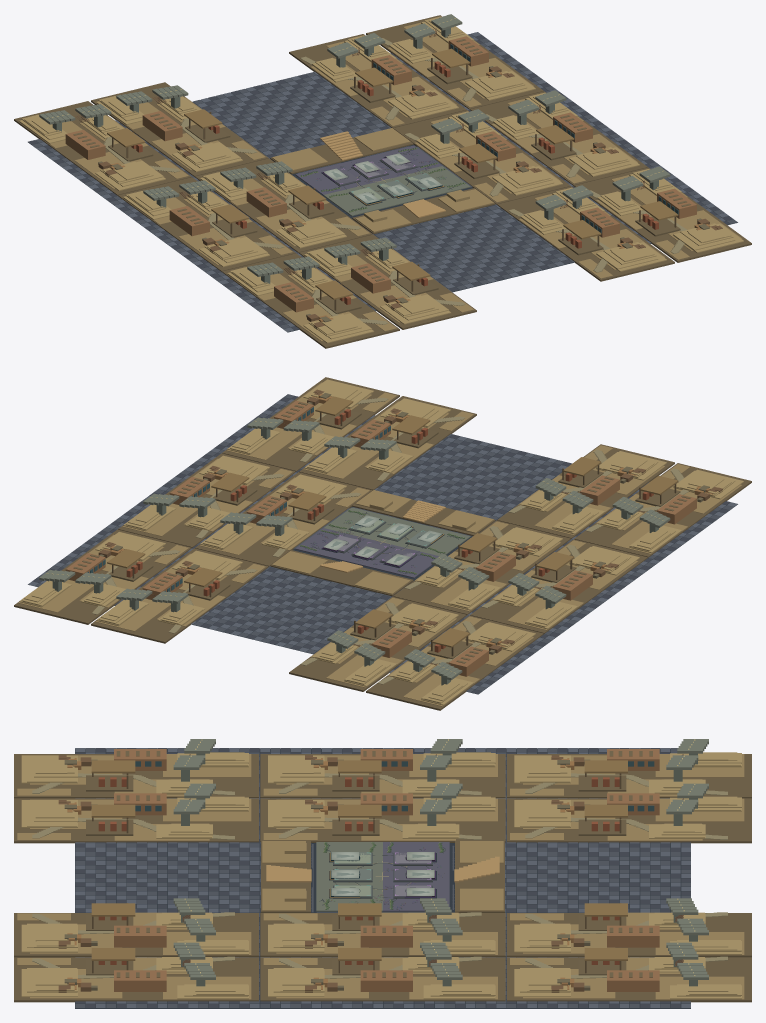
File: wasteland.glb
The picture shows the model from 3 angles, top to bottom: view 1: azimuth 30°, elevation 25°; view 2: azimuth 150°, elevation 25°; view 3: azimuth 270°, elevation 25°; orthographic projection. The views are drawn at different scales.
Visible parts, largest first — view 1: 24_Continuous_Outer_Floor_rock, 24_Continuous_Outer_Floor_rock3, 24_Continuous_Outer_Floor_rock2, 24_Outer_Floor_Mortar, Decorated_Halves_With_Six_Grounded_Stone_Bases, Approach_Flanking_Terraces, Landscape_Sand_Dunes__West_1_-1, Landscape_Sand_Dunes__West_1_0, Landscape_Sand_Dunes__West_1_1, Landscape_Sand_Dunes__West_0_1, Landscape_Sand_Dunes, Landscape_Sand_Dunes__West_0_-1 (+56 smaller); view 2: 24_Continuous_Outer_Floor_rock, 24_Continuous_Outer_Floor_rock2, 24_Continuous_Outer_Floor_rock3, 24_Outer_Floor_Mortar, Decorated_Halves_With_Six_Grounded_Stone_Bases, Approach_Flanking_Terraces, Landscape_Sand_Dunes, Landscape_Sand_Dunes__West_0_-1, Landscape_Sand_Dunes__West_0_1, Landscape_Sand_Dunes__West_1_0, Landscape_Sand_Dunes__West_1_-1, Landscape_Sand_Dunes__West_1_1 (+53 smaller); view 3: 24_Continuous_Outer_Floor_rock3, 24_Continuous_Outer_Floor_rock, 24_Continuous_Outer_Floor_rock2, 24_Outer_Floor_Mortar, Decorated_Halves_With_Six_Grounded_Stone_Bases, Approach_Flanking_Terraces, Landscape_Sand_Dunes__East_1_0, Landscape_Sand_Dunes__East_1_1, Landscape_Sand_Dunes__East_1_-1, Landscape_Sand_Dunes, Landscape_Sand_Dunes__West_0_1, Landscape_Sand_Dunes__West_0_-1 (+87 smaller).
Boxes of the visible parts, x1=… form: 24_Continuous_Outer_Floor_rock: x1=28, y1=35, x2=732, y2=330; 24_Continuous_Outer_Floor_rock3: x1=36, y1=32, x2=728, y2=331; 24_Continuous_Outer_Floor_rock2: x1=32, y1=34, x2=737, y2=328; 24_Outer_Floor_Mortar: x1=28, y1=34, x2=737, y2=332; Decorated_Halves_With_Six_Grounded_Stone_Bases: x1=295, y1=145, x2=470, y2=216; Approach_Flanking_Terraces: x1=272, y1=128, x2=493, y2=232; Landscape_Sand_Dunes__West_1_-1: x1=19, y1=114, x2=165, y2=190; Landscape_Sand_Dunes__West_1_0: x1=123, y1=191, x2=269, y2=267; Landscape_Sand_Dunes__West_1_1: x1=227, y1=267, x2=374, y2=343; Landscape_Sand_Dunes__West_0_1: x1=304, y1=248, x2=451, y2=324; Landscape_Sand_Dunes: x1=200, y1=172, x2=346, y2=248; Landscape_Sand_Dunes__West_0_-1: x1=96, y1=96, x2=242, y2=172; 24_Continuous_Outer_Floor_rock: x1=32, y1=396, x2=730, y2=693; 24_Continuous_Outer_Floor_rock2: x1=36, y1=394, x2=733, y2=692; 24_Continuous_Outer_Floor_rock3: x1=28, y1=399, x2=737, y2=688; 24_Outer_Floor_Mortar: x1=28, y1=396, x2=737, y2=694; Decorated_Halves_With_Six_Grounded_Stone_Bases: x1=295, y1=507, x2=470, y2=578; Approach_Flanking_Terraces: x1=272, y1=490, x2=493, y2=594; Landscape_Sand_Dunes: x1=416, y1=527, x2=562, y2=610; Landscape_Sand_Dunes__West_0_-1: x1=312, y1=603, x2=458, y2=686; Landscape_Sand_Dunes__West_0_1: x1=520, y1=451, x2=666, y2=534; Landscape_Sand_Dunes__West_1_0: x1=493, y1=546, x2=639, y2=629; Landscape_Sand_Dunes__West_1_-1: x1=389, y1=622, x2=535, y2=705; Landscape_Sand_Dunes__West_1_1: x1=597, y1=469, x2=743, y2=552; 24_Continuous_Outer_Floor_rock3: x1=75, y1=748, x2=690, y2=1007; 24_Continuous_Outer_Floor_rock: x1=75, y1=748, x2=690, y2=1007; 24_Continuous_Outer_Floor_rock2: x1=75, y1=748, x2=690, y2=1007; 24_Outer_Floor_Mortar: x1=75, y1=748, x2=690, y2=1008; Decorated_Halves_With_Six_Grounded_Stone_Bases: x1=316, y1=842, x2=449, y2=911; Approach_Flanking_Terraces: x1=262, y1=841, x2=503, y2=911; Landscape_Sand_Dunes__East_1_0: x1=268, y1=957, x2=495, y2=999; Landscape_Sand_Dunes__East_1_1: x1=21, y1=957, x2=248, y2=999; Landscape_Sand_Dunes__East_1_-1: x1=514, y1=957, x2=741, y2=999; Landscape_Sand_Dunes: x1=268, y1=796, x2=495, y2=838; Landscape_Sand_Dunes__West_0_1: x1=21, y1=796, x2=248, y2=838; Landscape_Sand_Dunes__West_0_-1: x1=514, y1=796, x2=741, y2=838.
Bounding box in the file's own units: 48 × 2.39 × 57.5.
32 materials, 1 textured.
